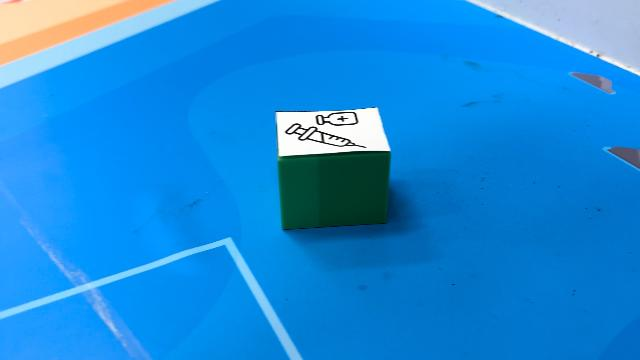syringe: (275, 106, 391, 230)
